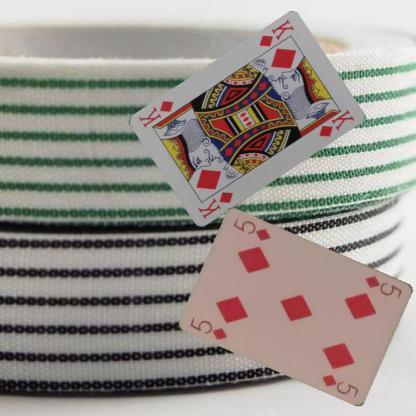5d: (363, 273, 404, 300), (188, 315, 229, 342)
Kd: (195, 189, 235, 221), (257, 16, 295, 48)
